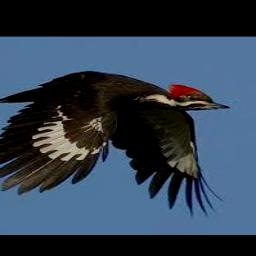Woodpecker: (0, 71, 229, 220)
